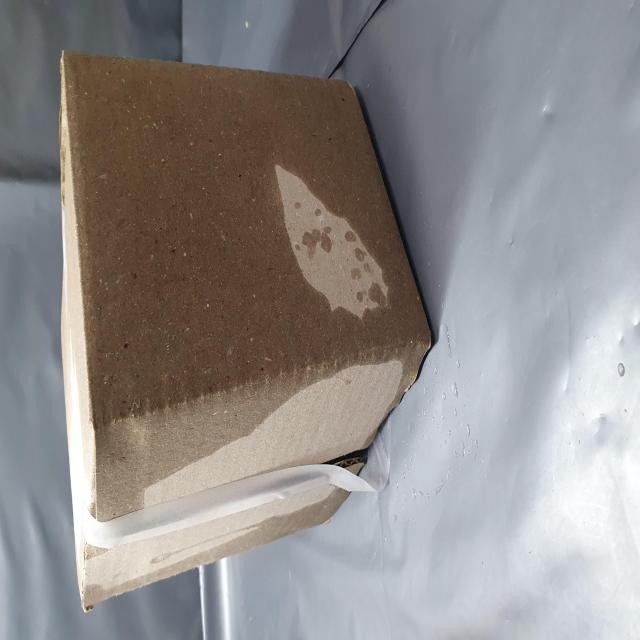wet: (28, 115, 340, 640)
